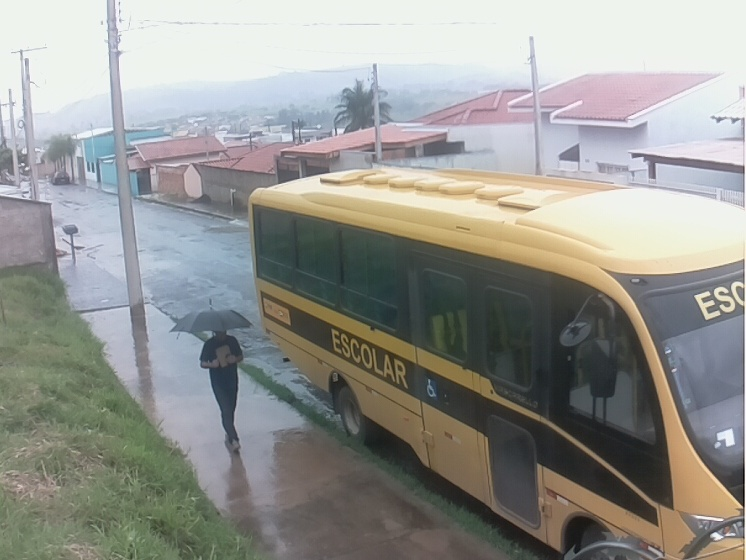person: (197, 326, 246, 450)
